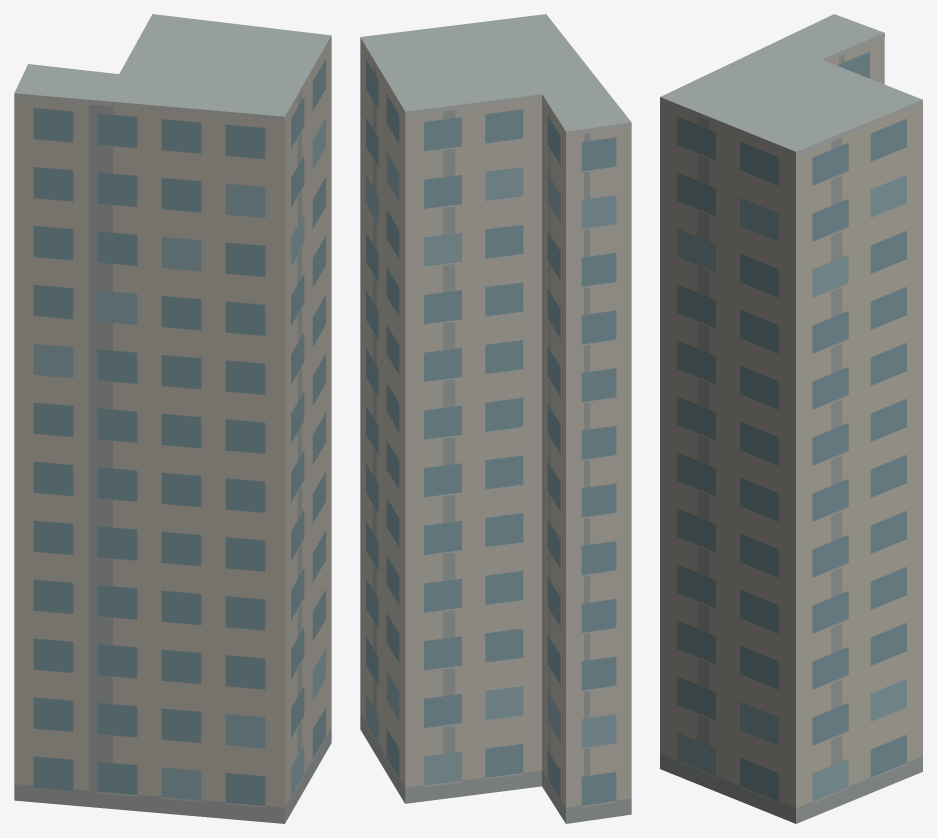
The model's file is residential-194ce1ef-8aa0-4f58-87ea-62dc6136b82b.glb.
The picture shows the model from 3 angles, left to right: view 1: azimuth 30°, elevation 25°; view 2: azimuth 150°, elevation 25°; view 3: azimuth 270°, elevation 25°; orthographic projection. The views are drawn at different scales.
Parts seen in each view (by area): view 1: residential-194ce1ef-8aa0-4f58-87ea-62dc6136b82b.tmp; view 2: residential-194ce1ef-8aa0-4f58-87ea-62dc6136b82b.tmp; view 3: residential-194ce1ef-8aa0-4f58-87ea-62dc6136b82b.tmp.
Boxes of the visible parts, x1,y1,x2,y2 form: residential-194ce1ef-8aa0-4f58-87ea-62dc6136b82b.tmp: (14, 14, 331, 823); residential-194ce1ef-8aa0-4f58-87ea-62dc6136b82b.tmp: (360, 14, 631, 823); residential-194ce1ef-8aa0-4f58-87ea-62dc6136b82b.tmp: (660, 14, 922, 823).
Size of the model in its own units: 16.11 by 36.6 by 12.98.
